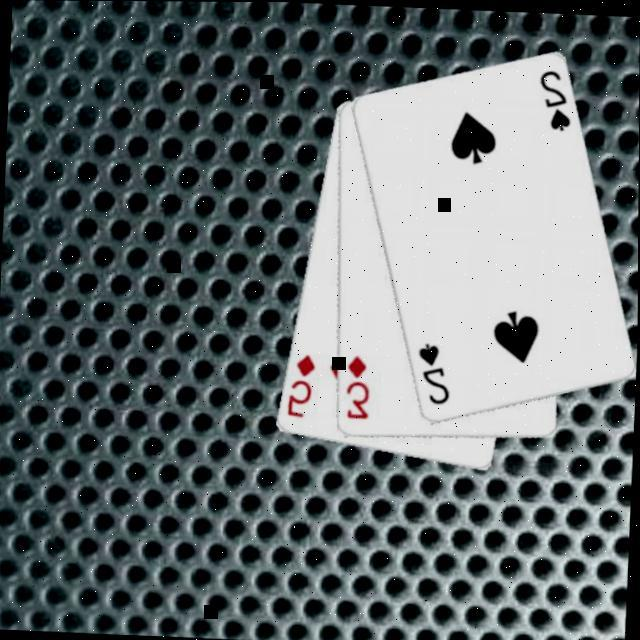2S: (411, 339, 453, 408), (533, 67, 573, 136)
3D: (339, 352, 371, 423)
5D: (280, 351, 316, 422)
